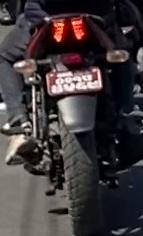license-plate: (45, 69, 104, 91)
